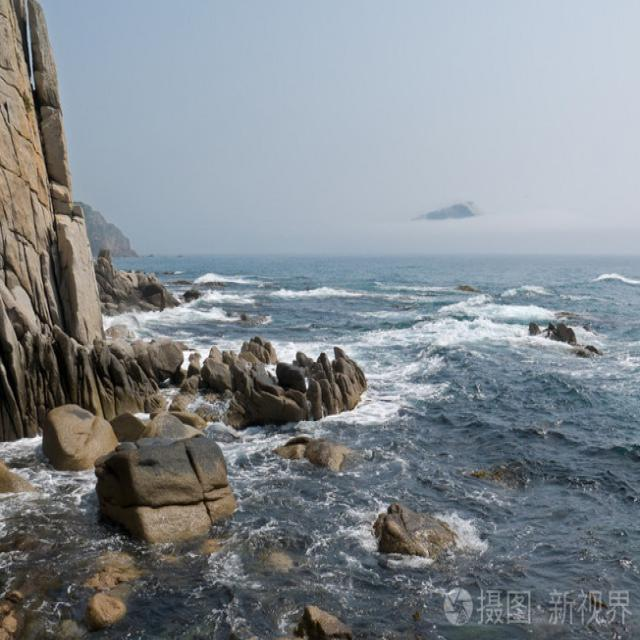reef: (135, 289, 366, 440), (81, 408, 257, 509), (341, 436, 451, 557), (493, 299, 622, 376)
